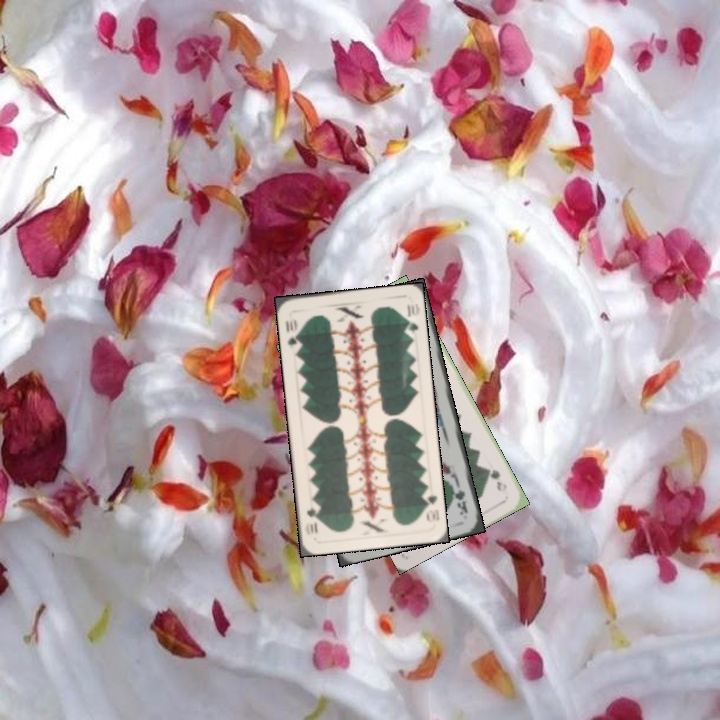G10: (419, 487, 442, 525), (282, 316, 303, 351)
G9: (484, 465, 509, 494)
GK: (448, 480, 470, 517)
